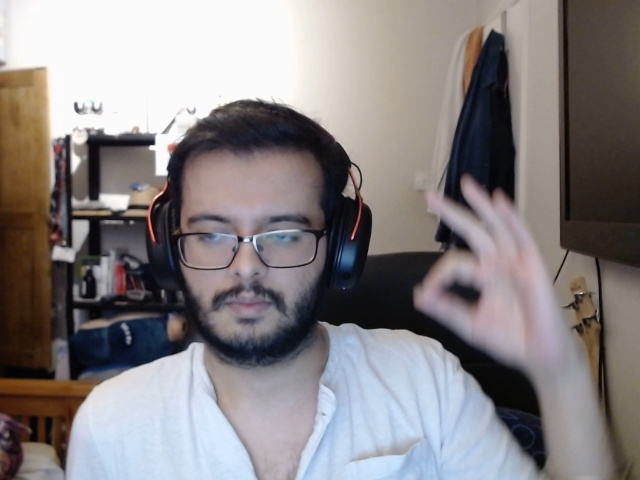Okay: (405, 173, 582, 383)
